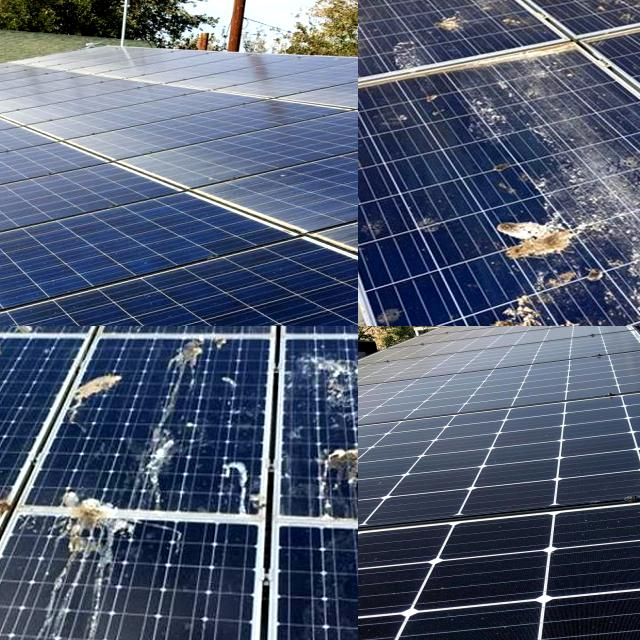bird: (458, 64, 596, 152), (51, 477, 152, 580), (489, 202, 597, 265), (0, 527, 58, 629), (500, 289, 640, 326), (39, 371, 140, 422), (212, 443, 272, 519), (302, 439, 358, 518), (166, 326, 216, 384), (513, 0, 580, 43), (0, 336, 32, 425), (116, 326, 201, 356), (416, 202, 466, 252), (358, 201, 401, 254), (425, 2, 485, 39), (358, 0, 417, 33), (0, 326, 42, 359), (0, 496, 27, 528), (380, 307, 415, 326)
